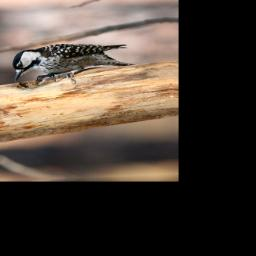Woodpecker: (10, 42, 135, 87)
